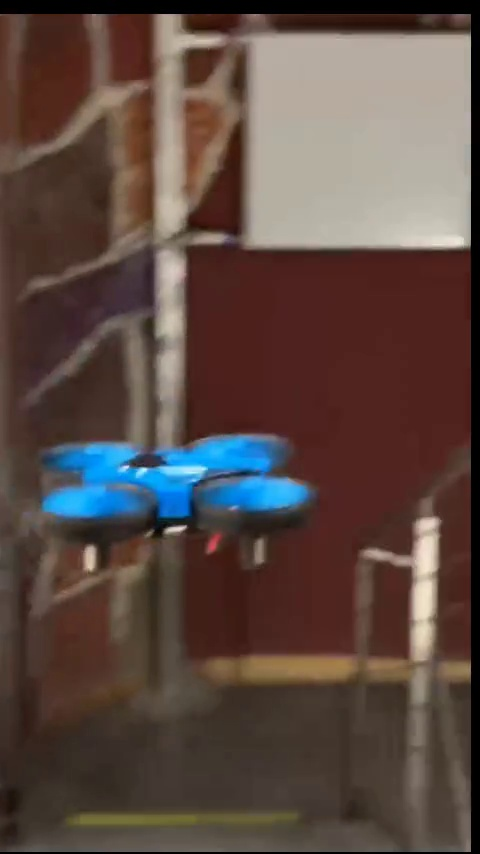drone: (44, 440, 319, 573)
